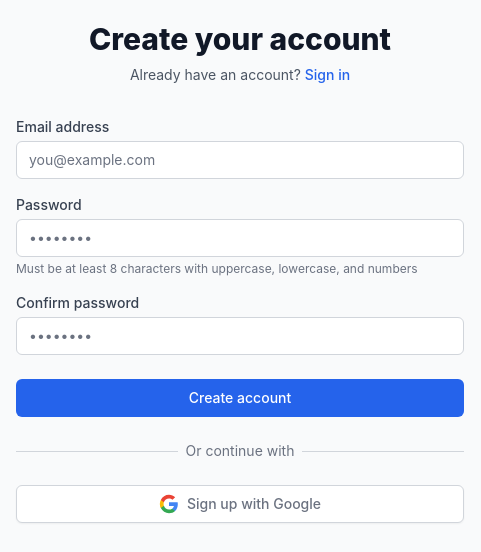
Test: RegisterForm › displays password strength indicator
Step 1. Type "Password123" into the password field labelled "Password" → (240, 238), box x1=16 y1=219 x2=464 y2=257
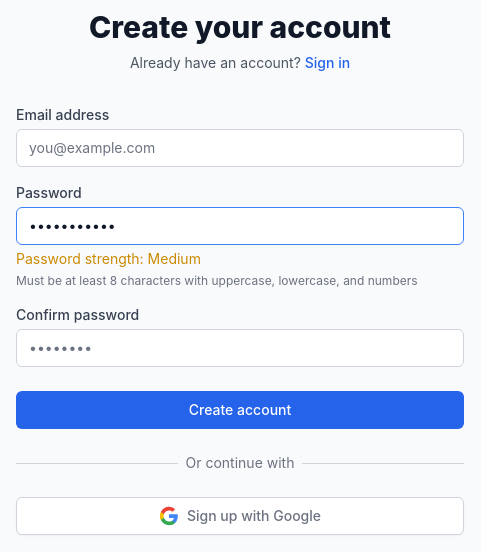
Result: the text "Password strength: Medium" is shown at x1=16 y1=250 x2=201 y2=267
